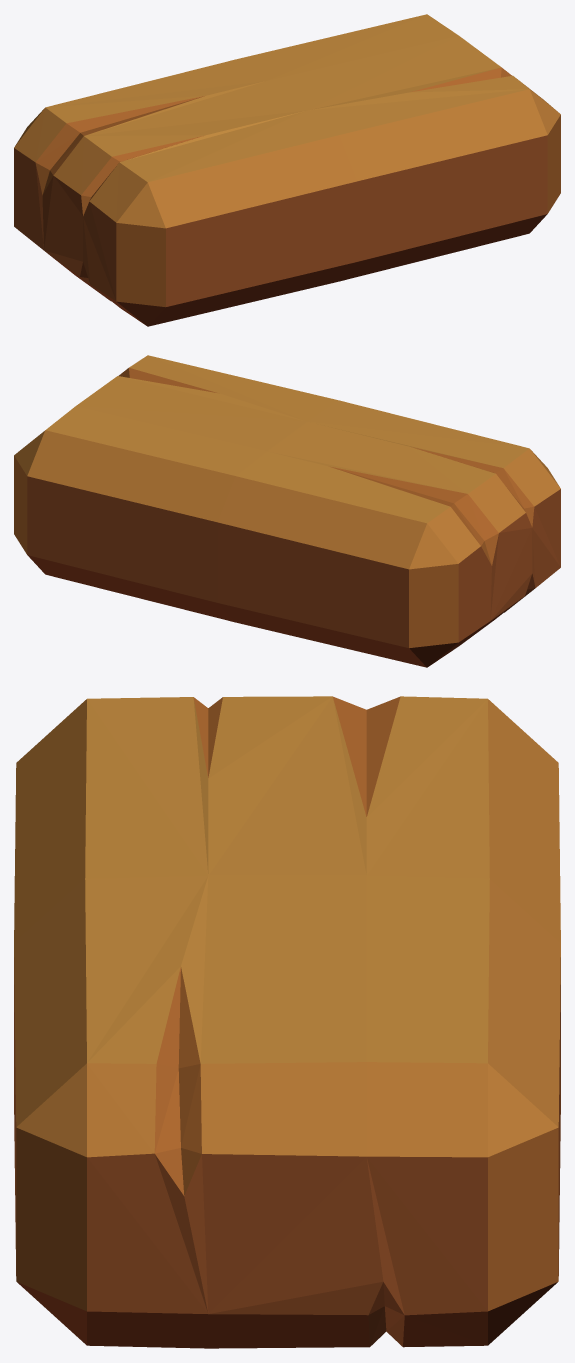
Rendered from m_kub_wood_floorBrick.FBX.
The picture shows the model from 3 angles, top to bottom: view 1: azimuth 30°, elevation 25°; view 2: azimuth 150°, elevation 25°; view 3: azimuth 270°, elevation 25°; orthographic projection. The views are drawn at different scales.
Visible parts, largest first — view 1: m_kub_wood_floorBrick; view 2: m_kub_wood_floorBrick; view 3: m_kub_wood_floorBrick.
Part boxes in pixels (x1,y1,x2,y2): m_kub_wood_floorBrick: [14, 14, 560, 326]; m_kub_wood_floorBrick: [14, 355, 560, 667]; m_kub_wood_floorBrick: [14, 696, 560, 1348].
Size of the model in its own units: 2.2 by 0.7 by 1.18.
